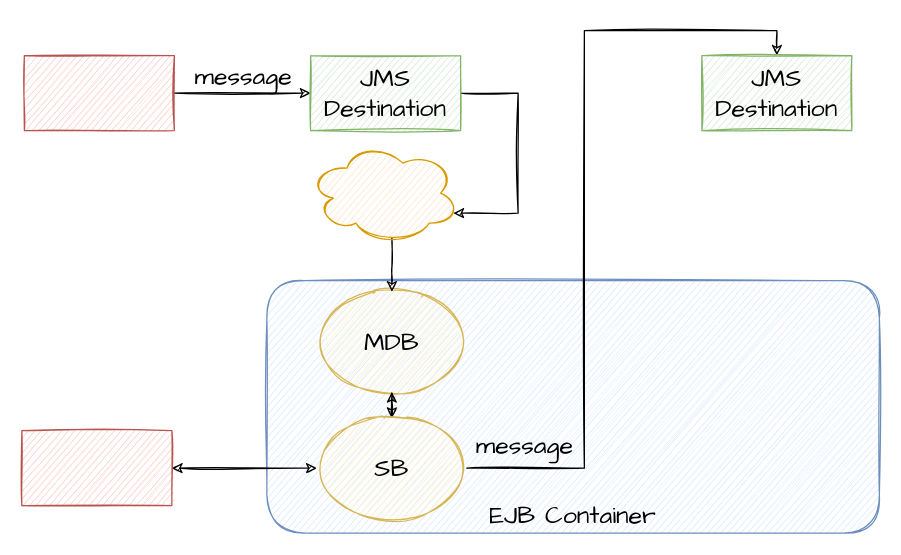
The diagram is 901 pixels wide and 555 high, and some of its shapes have lost their labels. The box of each missing label's shape, as (x1, y1, x2, y2) in pixels:
EJB client: (21, 429, 172, 506)
JMS client: (23, 54, 174, 131)
Listener: (308, 142, 459, 243)
